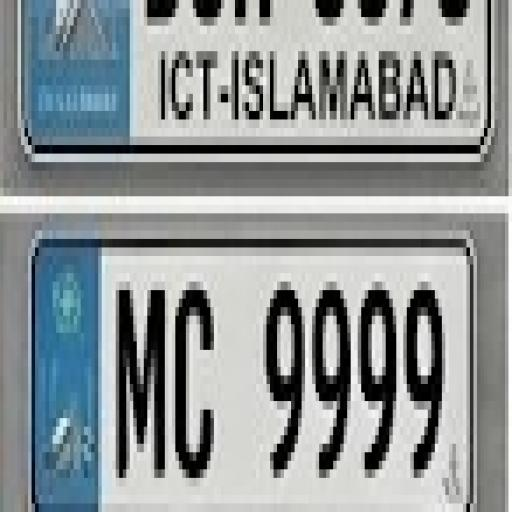9: (263, 269, 305, 478), (310, 280, 352, 485), (357, 284, 397, 478), (404, 288, 446, 472)
C: (174, 276, 216, 484)
M: (109, 274, 169, 490)
